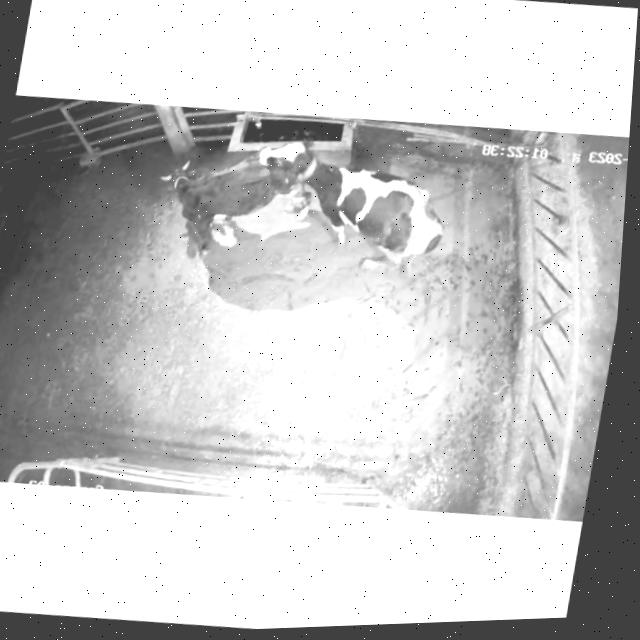propping: (225, 125, 346, 211)
